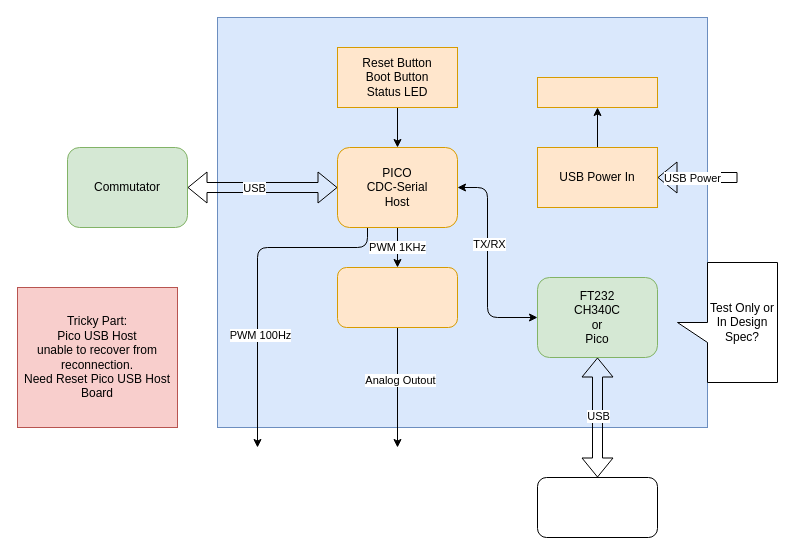
The diagram is 795 pixels wide and 555 high, and some of its shapes have lost their labels. The shapes that lost their labels are listed below. From the top down, each one's centre as x and y in pixels, then its label:
point 597,92: PowerLED
point 397,297: PWM Integrator
point 597,507: PC
